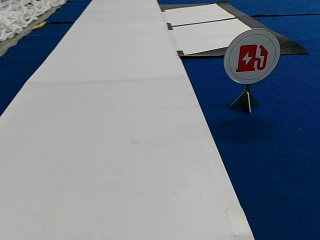battery: (224, 28, 280, 84)
